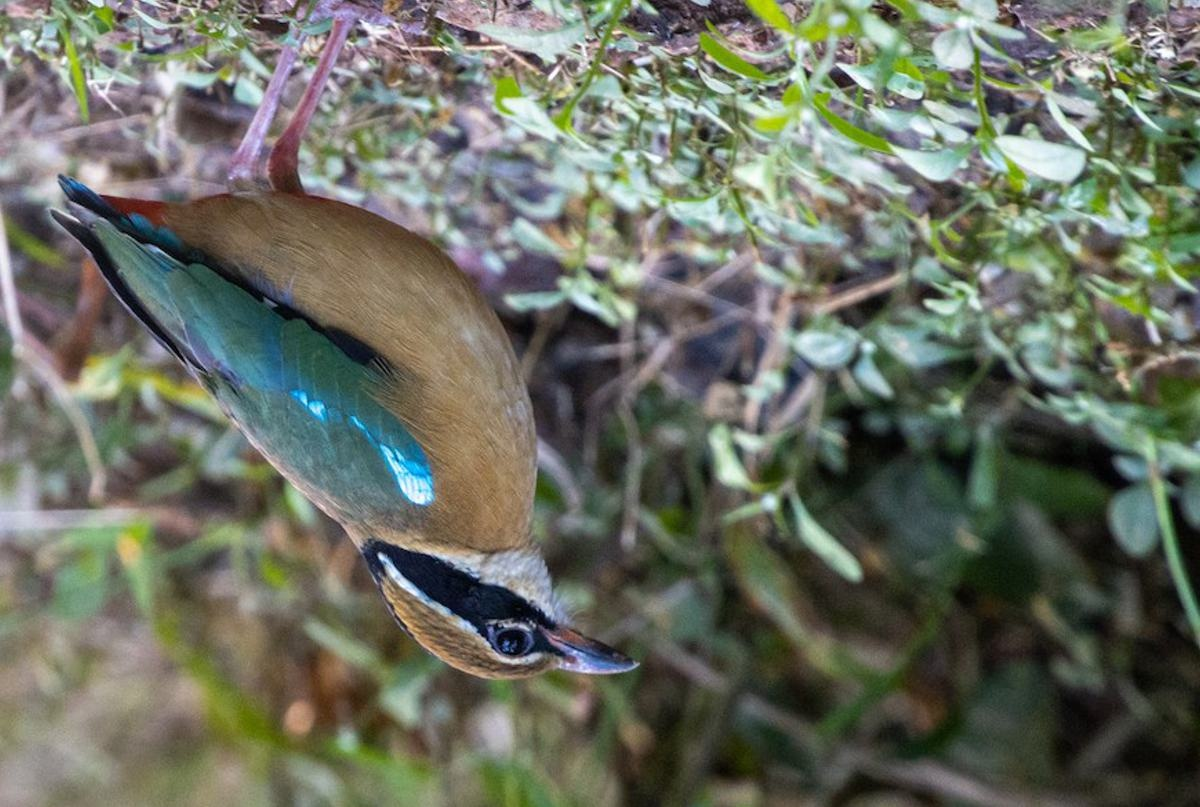pitta: (63, 125, 650, 706)
